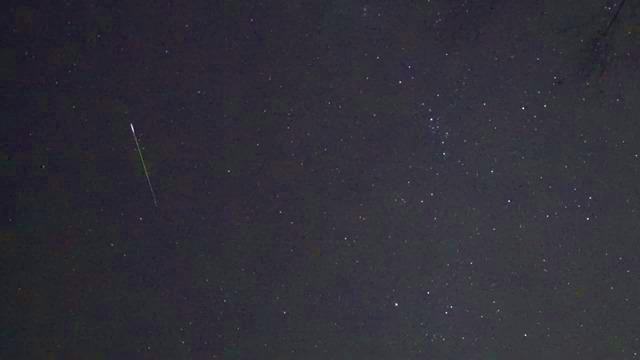meteorite: (116, 115, 163, 217)
